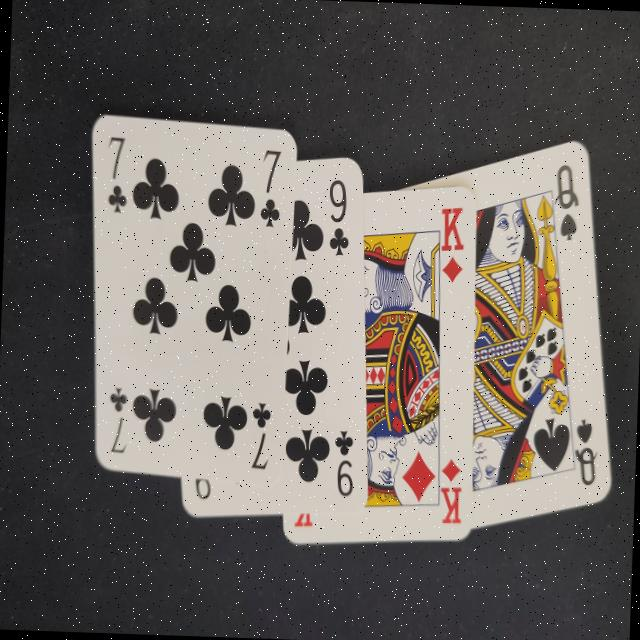7c: (97, 124, 134, 218), (251, 142, 287, 235), (100, 377, 132, 462), (242, 393, 275, 472)
9c: (320, 172, 354, 264), (326, 424, 361, 504)
Kd: (424, 198, 472, 298), (430, 452, 470, 534)
Qs: (544, 158, 587, 246), (565, 408, 604, 492)
